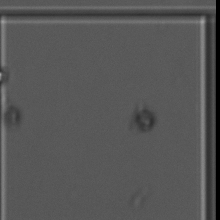Dead Cell: (130, 104, 161, 135), (3, 104, 27, 128)
